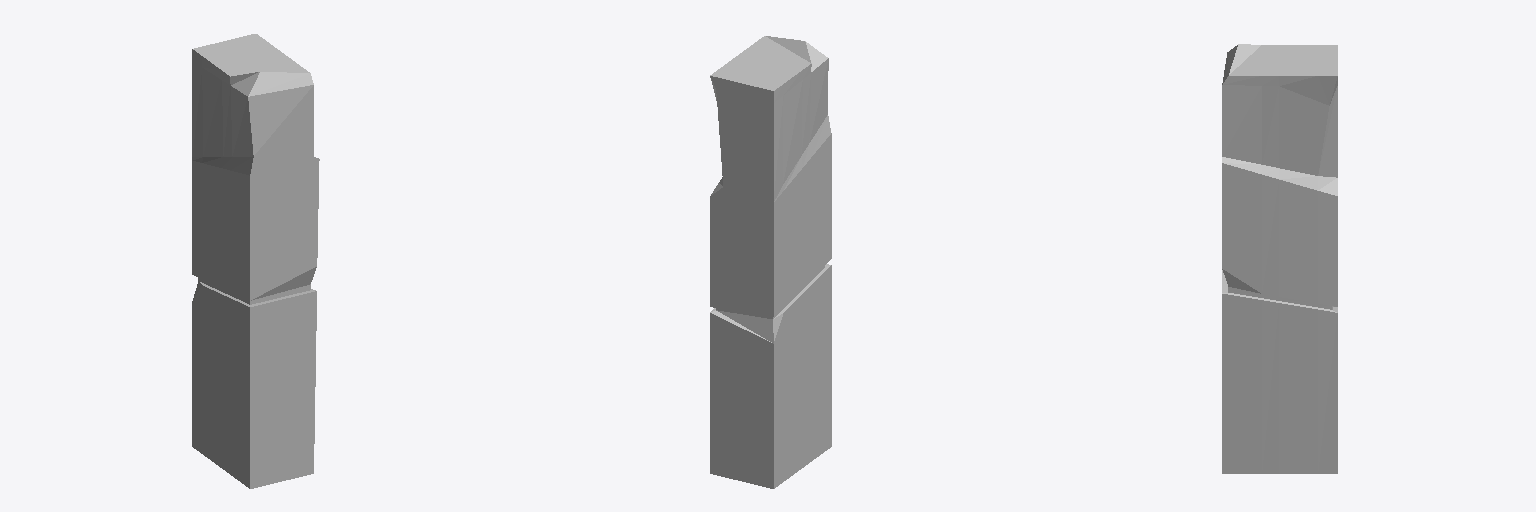
File: tower_02.obj
3 renders of one model, left to right at view 1: azimuth 30°, elevation 25°; view 2: azimuth 150°, elevation 25°; view 3: azimuth 270°, elevation 25°, orthographic.
Visible parts, largest first — view 1: Cube_Cube; view 2: Cube_Cube; view 3: Cube_Cube.
Boxes of the visible parts, box(x1,y1,x2,y2) form: Cube_Cube: box(192, 34, 319, 488); Cube_Cube: box(710, 36, 831, 488); Cube_Cube: box(1222, 44, 1337, 473).
Bounding box in the file's own units: 138 × 778 × 200.